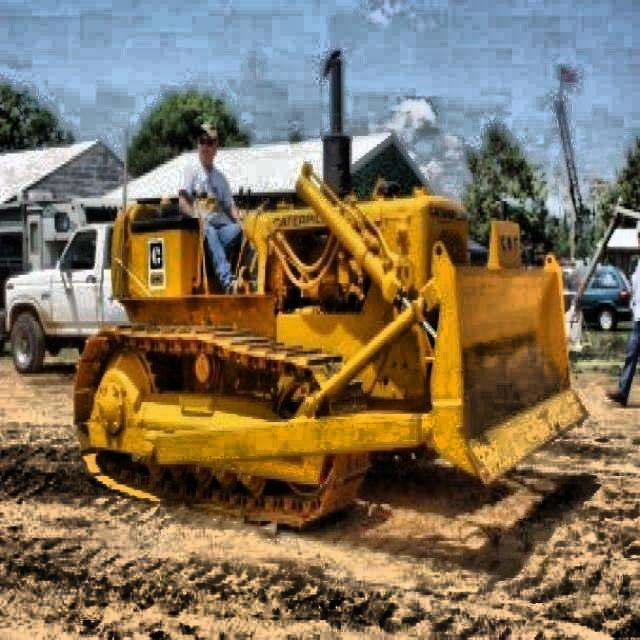bull_dozer/loader/grader: (72, 48, 590, 532)
person: (178, 120, 252, 296), (604, 221, 640, 411)
